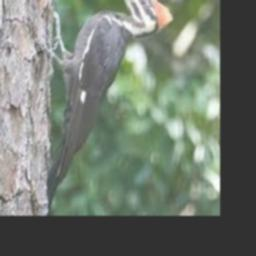Woodpecker: (45, 0, 174, 213)
